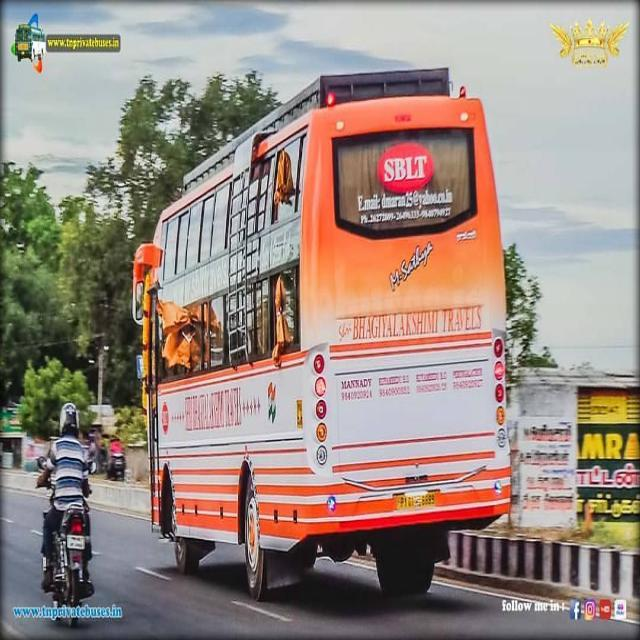Bus: (130, 66, 515, 610)
